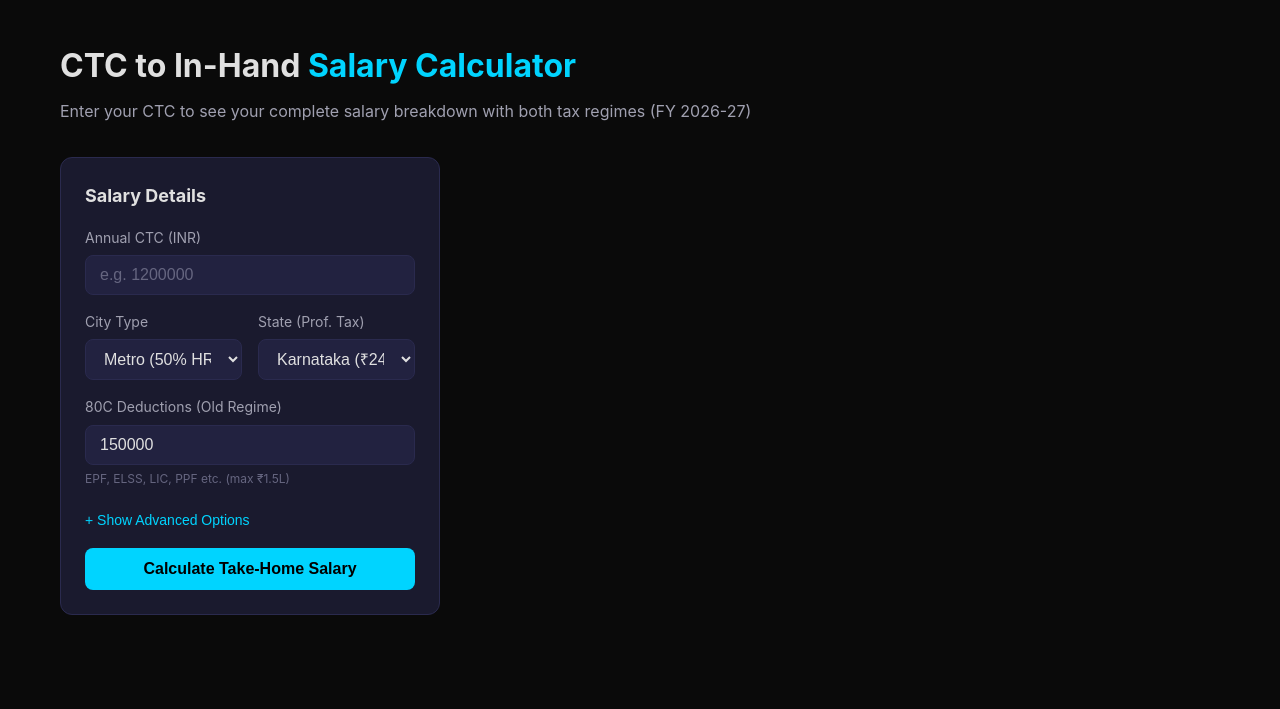
Scenario: CalculatorPage › shows results after entering CTC and clicking calculate
Type "1200000" into the number field labelled "Annual CTC (INR)". click: [250, 275]
box: [85,255,415,295]
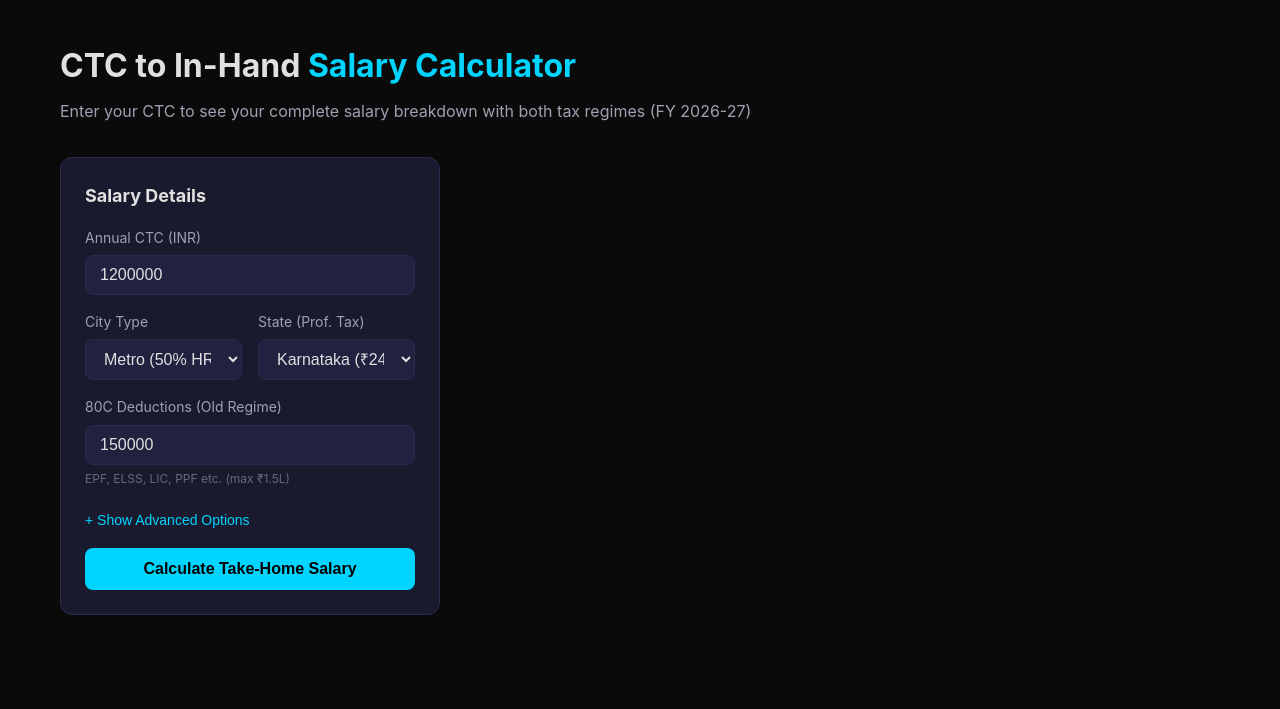
Click the button "Calculate Take-Home Salary". click: [250, 569]
box: [85,548,415,590]
(page scrolled)
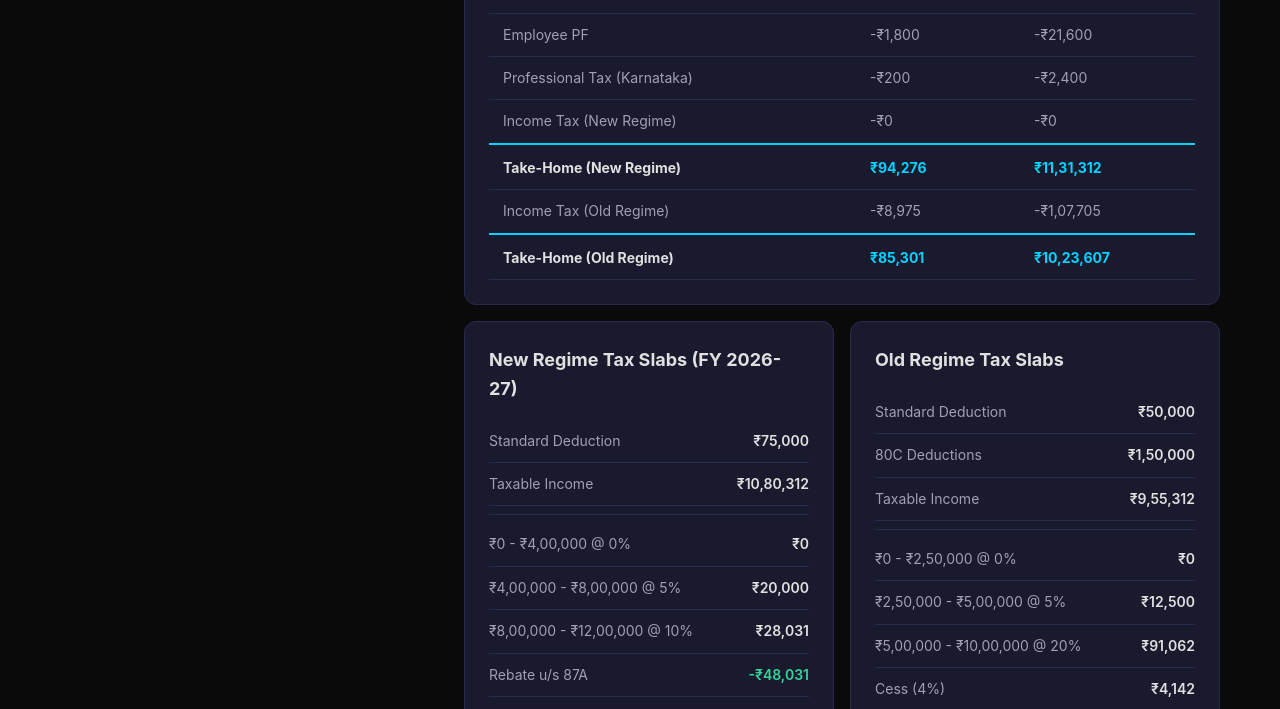
Now the heading "New Regime Tax Slabs (FY 2026-27)" is shown, box [489,346,809,404]
Now the heading "Old Regime Tax Slabs" is shown, box [875,349,1064,370]
